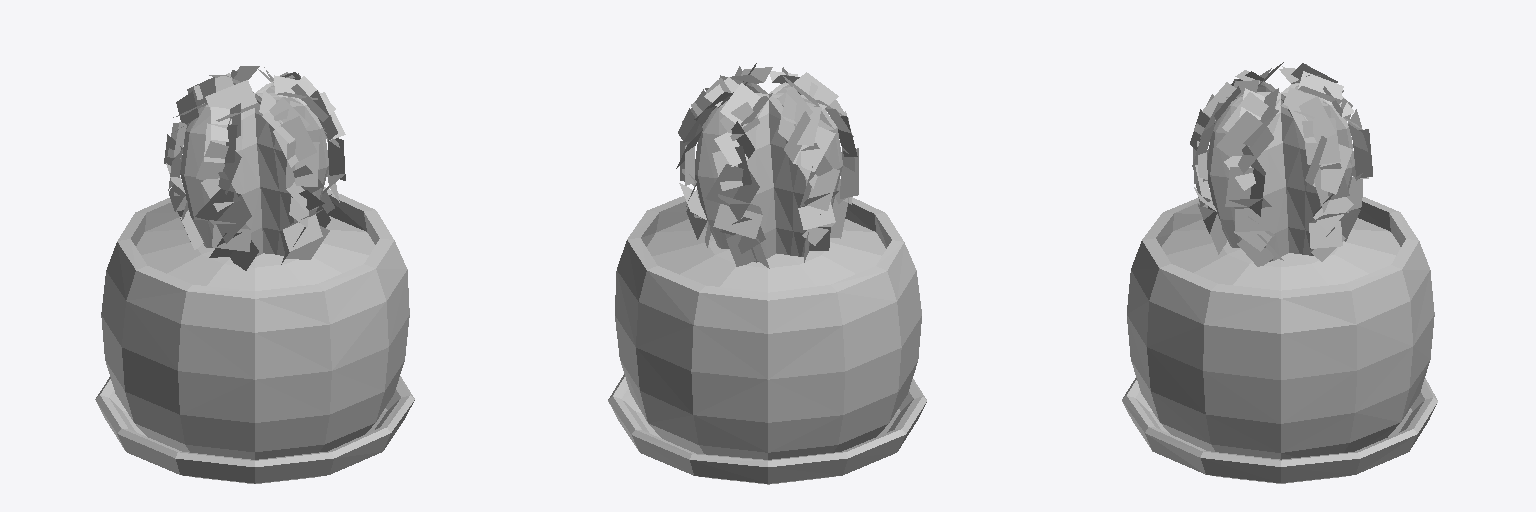
3 renders of one model, left to right at view 1: azimuth 30°, elevation 25°; view 2: azimuth 150°, elevation 25°; view 3: azimuth 270°, elevation 25°, orthographic.
Visible parts, largest first — view 1: Pot_low_Pot_low, spike1_low_spike1_low, Cactus1_low_Cactus1_low, Plate_low_Plate_low, Ground_low_Ground_low; view 2: Pot_low_Pot_low, spike1_low_spike1_low, Cactus1_low_Cactus1_low, Ground_low_Ground_low, Plate_low_Plate_low; view 3: Pot_low_Pot_low, spike1_low_spike1_low, Cactus1_low_Cactus1_low, Ground_low_Ground_low, Plate_low_Plate_low.
Boxes of the visible parts, box(x1,y1,x2,y2) form: Pot_low_Pot_low: box(101, 187, 409, 459); spike1_low_spike1_low: box(164, 66, 345, 270); Cactus1_low_Cactus1_low: box(180, 81, 328, 256); Plate_low_Plate_low: box(95, 376, 414, 483); Ground_low_Ground_low: box(136, 216, 374, 290); Pot_low_Pot_low: box(615, 190, 921, 459); spike1_low_spike1_low: box(676, 63, 858, 268); Cactus1_low_Cactus1_low: box(695, 82, 842, 262); Ground_low_Ground_low: box(647, 219, 885, 292); Plate_low_Plate_low: box(608, 374, 926, 484); Pot_low_Pot_low: box(1127, 192, 1434, 459); spike1_low_spike1_low: box(1190, 62, 1372, 266); Cactus1_low_Cactus1_low: box(1207, 81, 1354, 261); Ground_low_Ground_low: box(1161, 218, 1400, 290); Plate_low_Plate_low: box(1122, 378, 1437, 483).
Size of the model in its own units: 21.05 by 26.36 by 20.84.